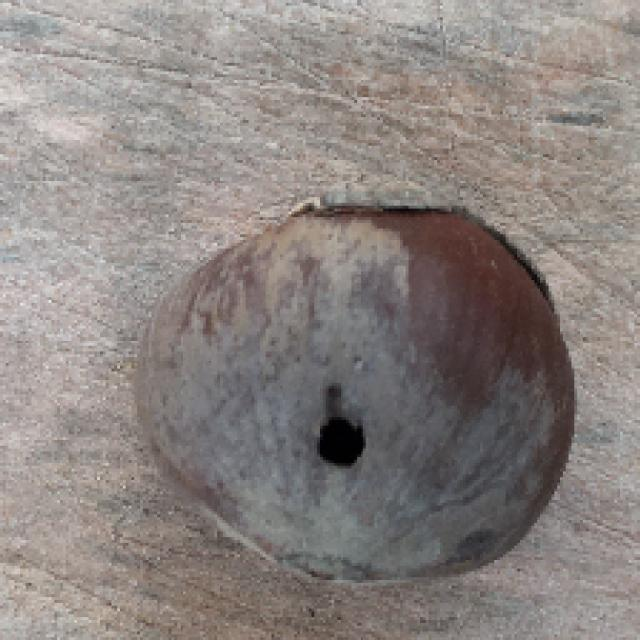damagedHazelnut: (134, 188, 576, 598)
